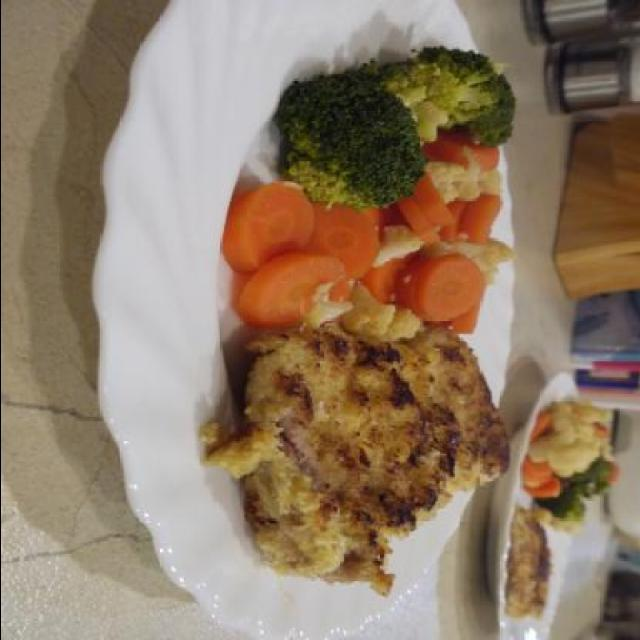Broccoli: (282, 45, 520, 213)
